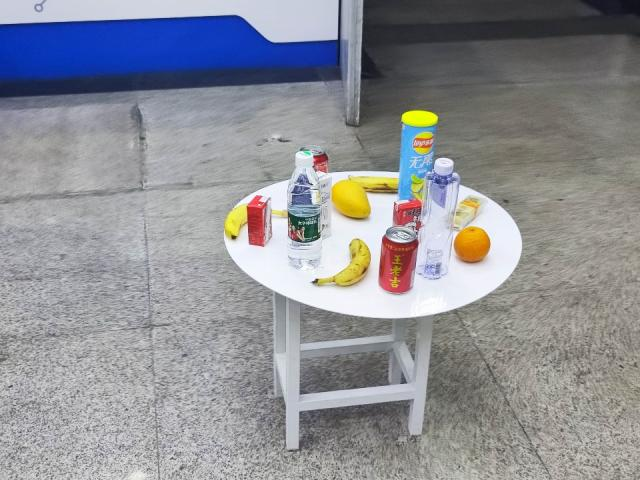Canned_drinks: (380, 226, 419, 292)
bottle: (285, 148, 328, 275), (422, 161, 452, 286)
drink_box: (248, 194, 276, 255)
